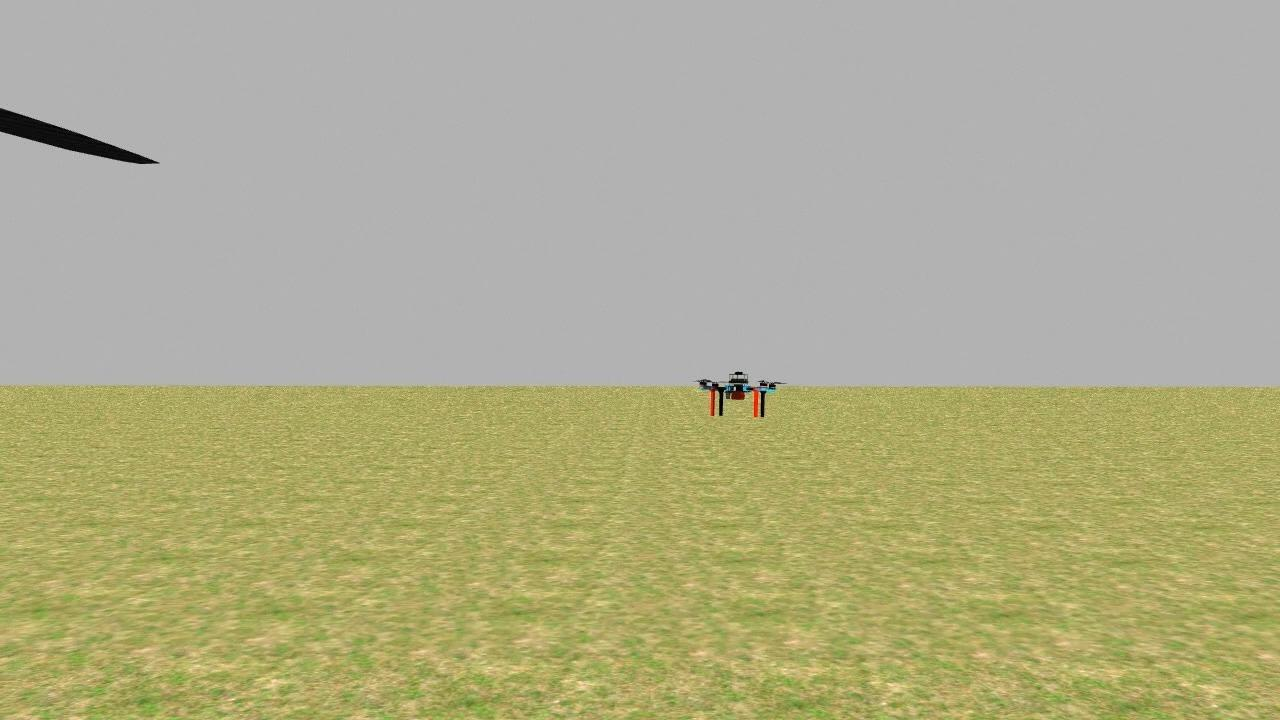UAV: (683, 349, 791, 423)
